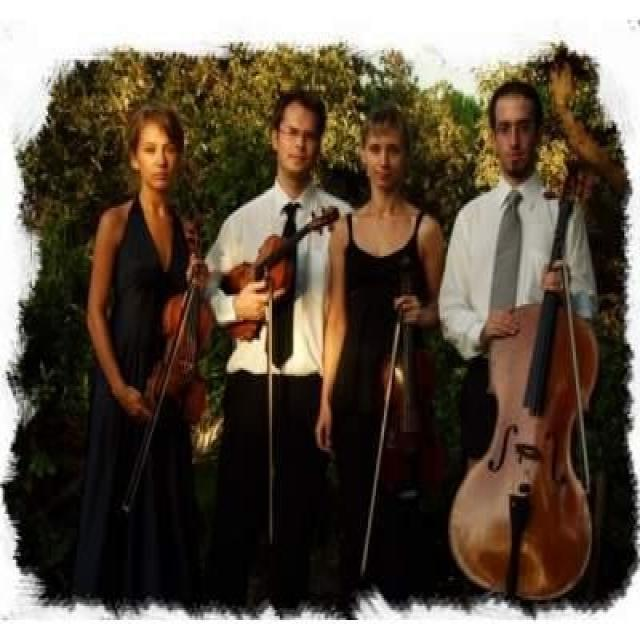cello: (448, 150, 603, 598)
violin: (165, 205, 344, 335), (376, 254, 448, 497), (145, 211, 216, 428)
